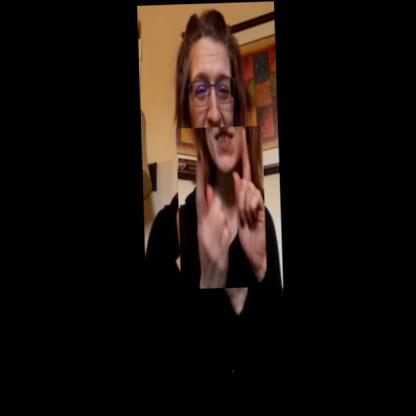NiceToMeetYou: (175, 126, 266, 289)
